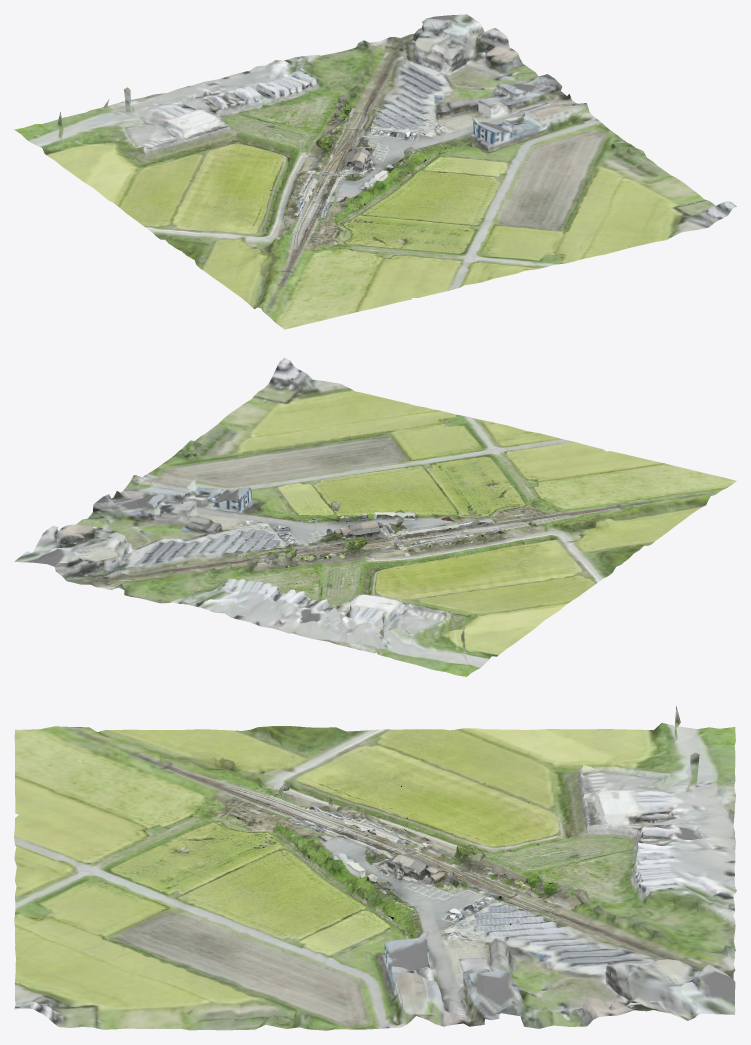
Rendered from hokkeguchi.gltf.
3 renders of one model, top to bottom at view 1: azimuth 30°, elevation 25°; view 2: azimuth 150°, elevation 25°; view 3: azimuth 270°, elevation 25°, orthographic. The views are drawn at different scales.
Parts seen in each view (by area): view 1: DefaultName; view 2: DefaultName; view 3: DefaultName.
Boxes of the visible parts, bbox=[...] form: DefaultName: bbox=[14, 14, 736, 329]; DefaultName: bbox=[14, 358, 736, 676]; DefaultName: bbox=[14, 706, 736, 1030].
Size of the model in its own units: 0.2868 by 0.023 by 0.2971.
Materials: 1 (1 with a texture image).
